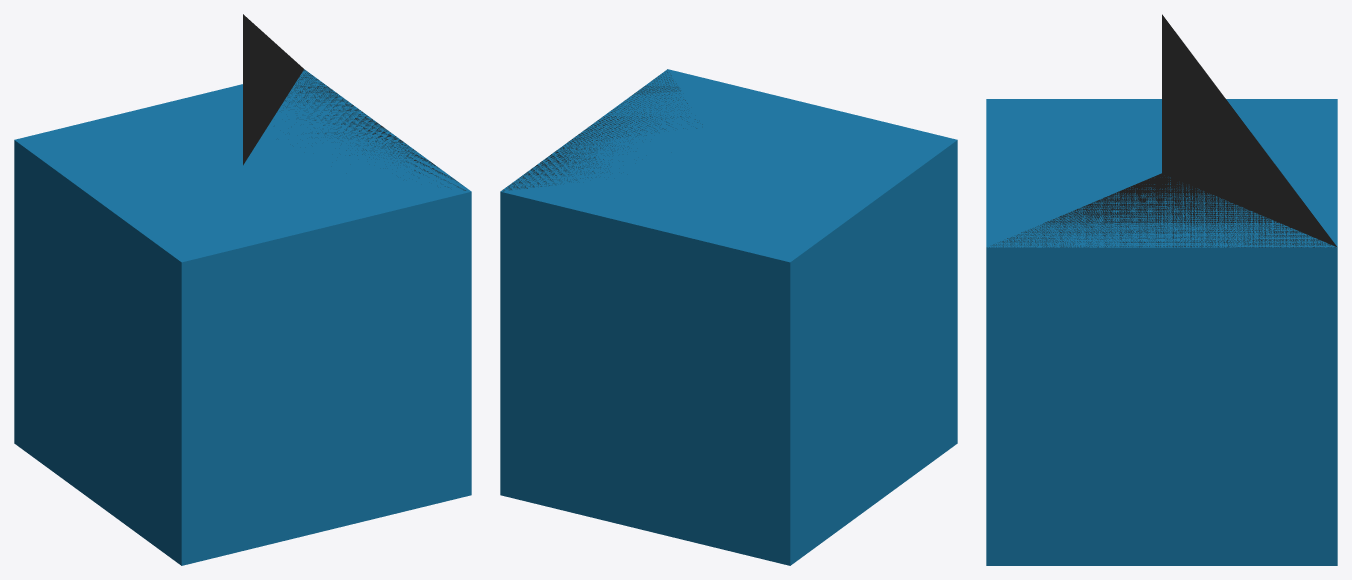
Rendered from sensor.obj.
3 views of the same model, side by side, from view 1: azimuth 30°, elevation 25°; view 2: azimuth 150°, elevation 25°; view 3: azimuth 270°, elevation 25° (orthographic). The views are drawn at different scales.
Size of the model in its own units: 1.1 by 1.5 by 1.
